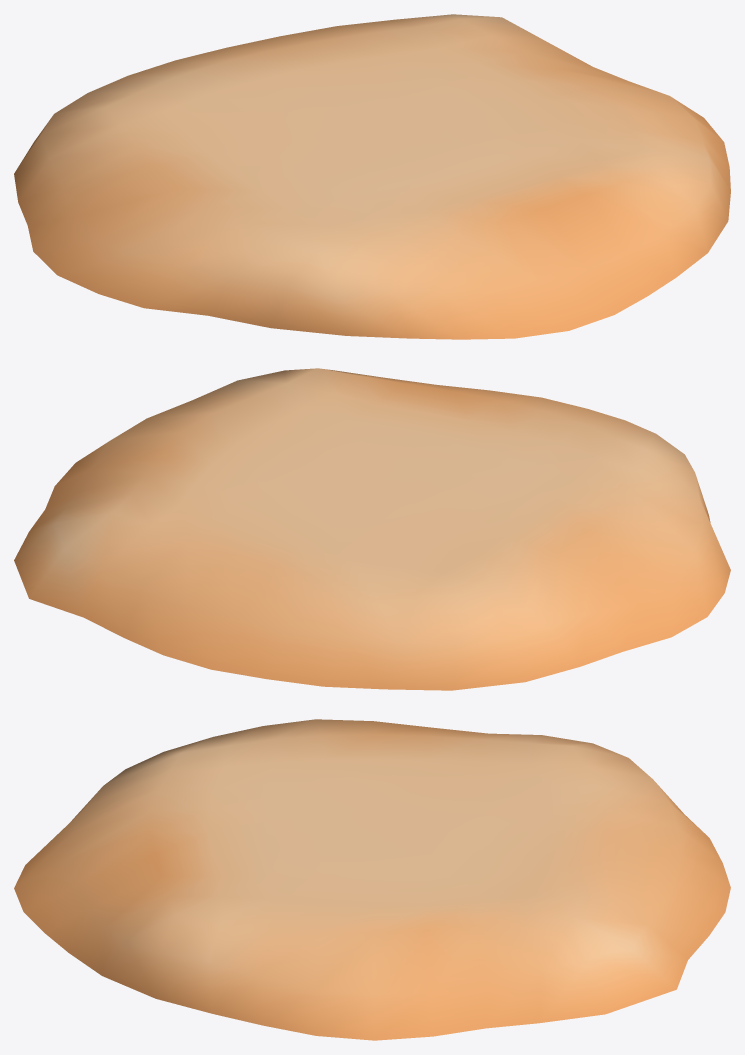
Rendered from SM_LargeIsland.fbx.
3 views of the same model, one above another, from view 1: azimuth 30°, elevation 25°; view 2: azimuth 150°, elevation 25°; view 3: azimuth 270°, elevation 25° (orthographic). The views are drawn at different scales.
Visible parts, largest first — view 1: SM_LargeIsland; view 2: SM_LargeIsland; view 3: SM_LargeIsland.
Part boxes in pixels (<box>): SM_LargeIsland: <box>14,14,730,339</box>; SM_LargeIsland: <box>14,368,730,690</box>; SM_LargeIsland: <box>14,719,730,1040</box>.
Size of the model in its own units: 52 by 4.61 by 51.11.
